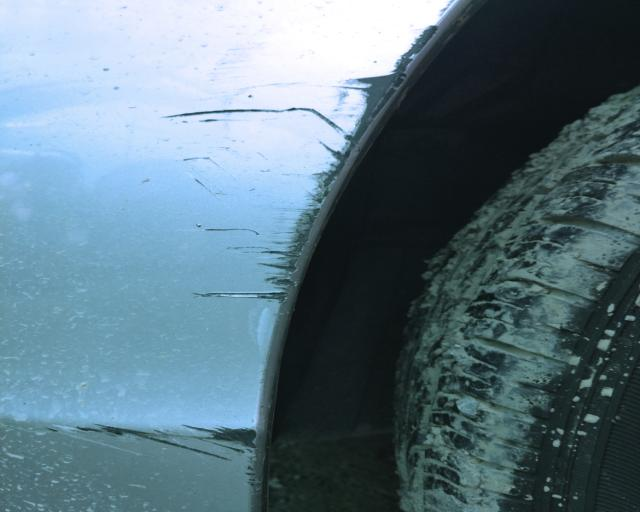scratch: (168, 22, 446, 318), (41, 422, 269, 486)
